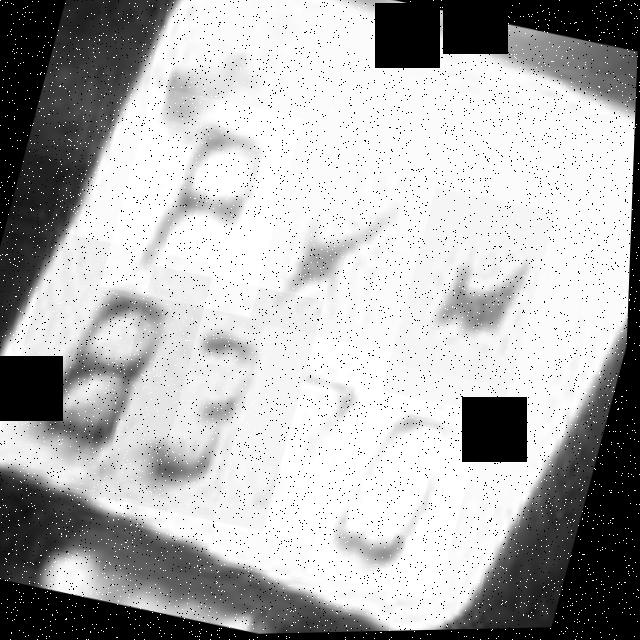0: (309, 357, 497, 605)
3: (95, 263, 327, 536)
7: (214, 323, 403, 557)
8: (0, 228, 218, 507)
N: (384, 187, 558, 420)
P: (101, 84, 305, 321)
